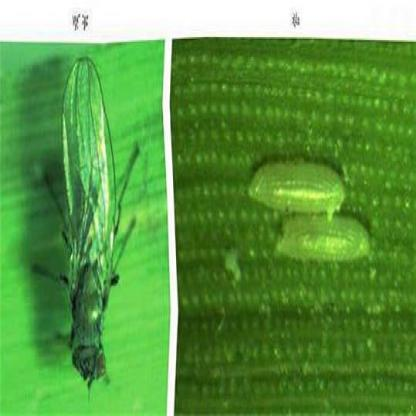whorl-maggot: (245, 152, 348, 216), (270, 208, 376, 266)
